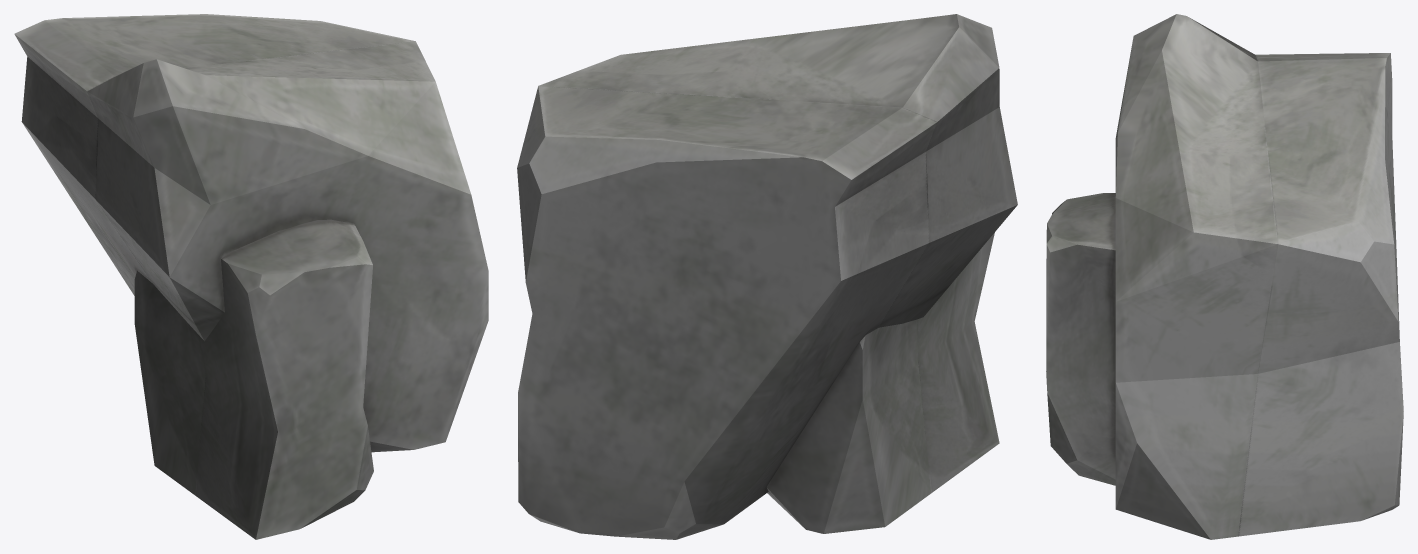
The model's file is 3_Grande.fbx.
3 views of the same model, side by side, from view 1: azimuth 30°, elevation 25°; view 2: azimuth 150°, elevation 25°; view 3: azimuth 270°, elevation 25° (orthographic). The views are drawn at different scales.
Parts seen in each view (by area): view 1: 3_R_Grande_Low; view 2: 3_R_Grande_Low; view 3: 3_R_Grande_Low.
Part boxes in pixels (x1,y1,x2,y2): 3_R_Grande_Low: [14, 14, 488, 539]; 3_R_Grande_Low: [517, 14, 1017, 539]; 3_R_Grande_Low: [1046, 14, 1403, 539].
Size of the model in its own units: 1387 by 1714 by 1343.
